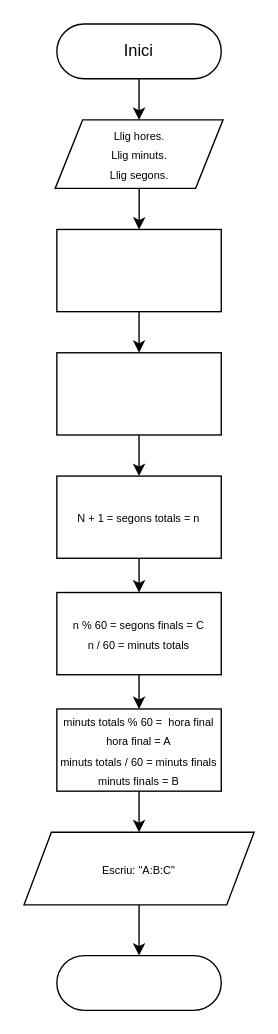
Image size: 278x1034. Some labels were removed from this diagram. The centre of each missing label's shape, as x and y in pixels:
"Fi" goes at (138,982).
"hores = x minuts = y segons = z" goes at (138,270).
"X * 3600 + y * 60 + z = N" goes at (138,393).
